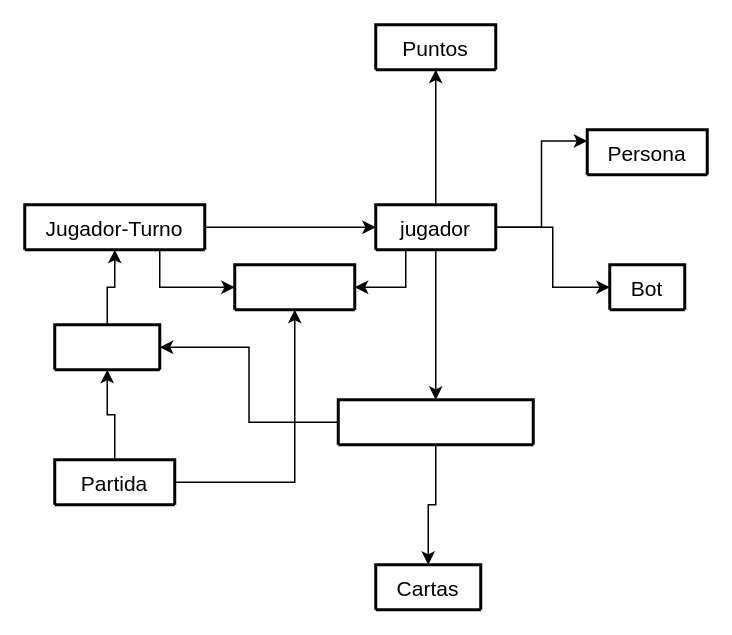
Some shapes in this 732 by 635 pixel diagram are drawn without their labels. Here are the shapes that lost their labels. From the top down, the centre of each, then its label:
(294,286): Historial
(106,346): Turno
(435,422): Carta-Jug-Turno
